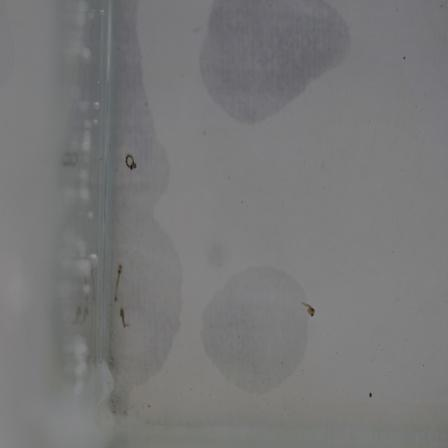Jentik-Nyamuk: (110, 260, 127, 303), (120, 152, 141, 173), (300, 298, 318, 321), (117, 303, 131, 332)
